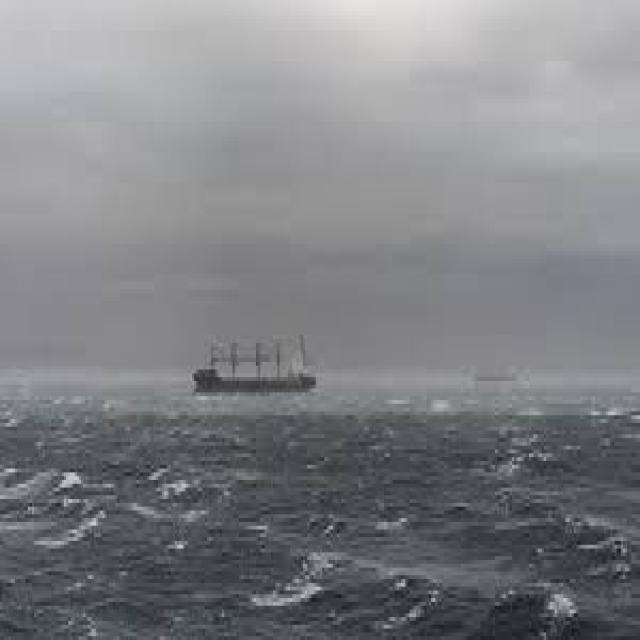cargoship: (188, 328, 316, 393)
